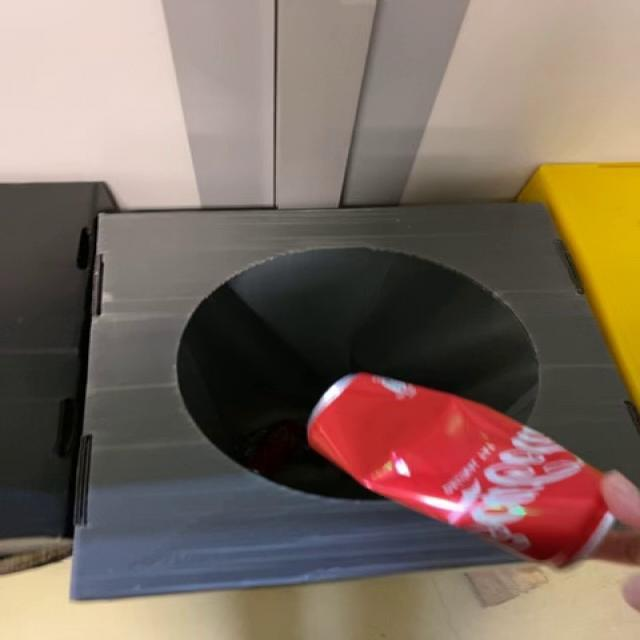Bin: (71, 205, 637, 600)
Metal: (308, 373, 615, 566)
